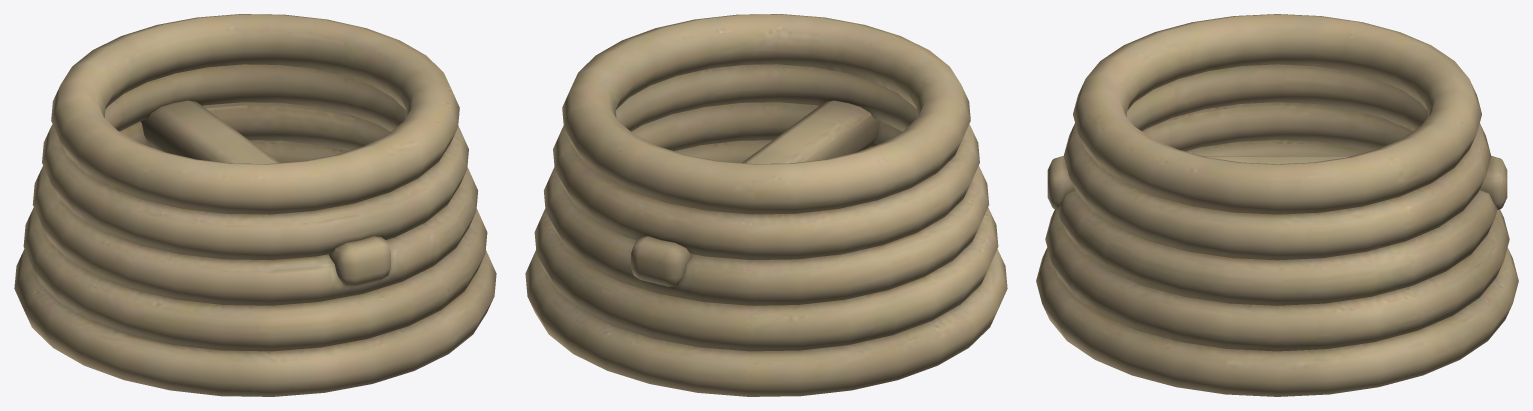
File: rope_coil.glb
The picture shows the model from 3 angles, left to right: view 1: azimuth 30°, elevation 25°; view 2: azimuth 150°, elevation 25°; view 3: azimuth 270°, elevation 25°; orthographic projection.
Parts seen in each view (by area): view 1: RopeCoil; view 2: RopeCoil; view 3: RopeCoil.
Boxes of the visible parts, x1,y1,x2,y2 form: RopeCoil: [14, 14, 496, 396]; RopeCoil: [525, 14, 1007, 396]; RopeCoil: [1036, 14, 1518, 396].
Bounding box in the file's own units: 0.63 × 0.31 × 0.63.
Materials: 1 (1 with a texture image).
